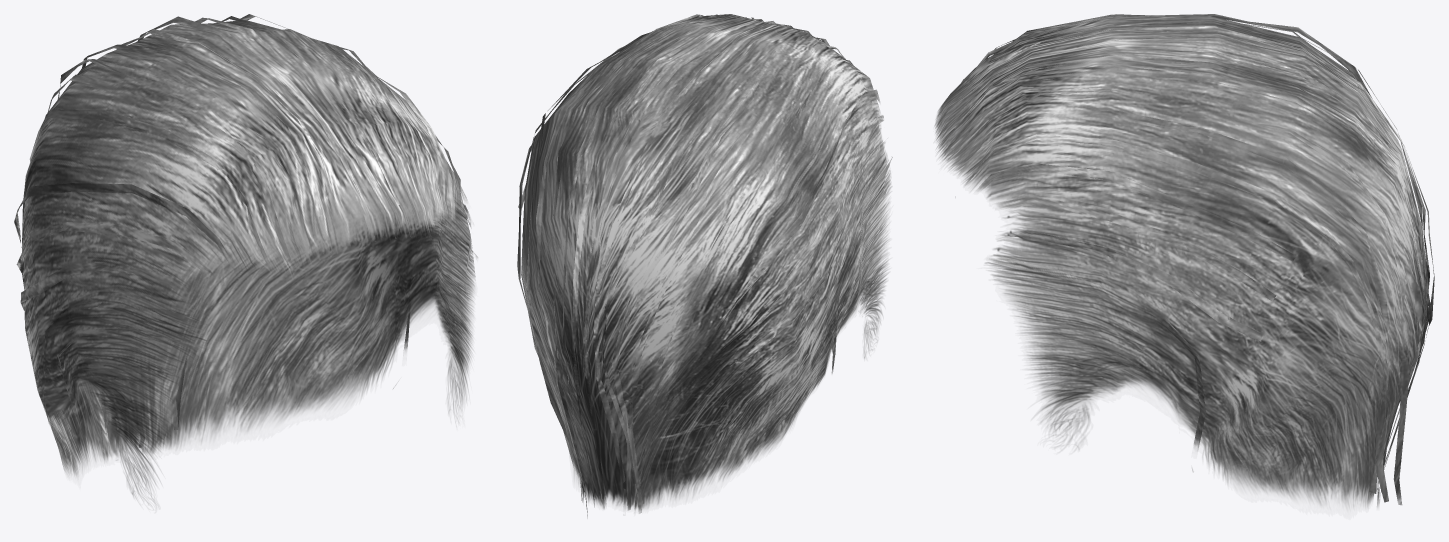
File: hair_short04.gltf
The picture shows the model from 3 angles, left to right: view 1: azimuth 30°, elevation 25°; view 2: azimuth 150°, elevation 25°; view 3: azimuth 270°, elevation 25°; orthographic projection. The views are drawn at different scales.
Parts seen in each view (by area): view 1: hair_short04; view 2: hair_short04; view 3: hair_short04.
Boxes of the visible parts, x1,y1,x2,y2 form: hair_short04: (14, 14, 478, 503); hair_short04: (517, 14, 892, 518); hair_short04: (934, 14, 1434, 510).
Bounding box in the file's own units: 0.156 × 0.2039 × 0.1965.
1 material, 1 textured.
